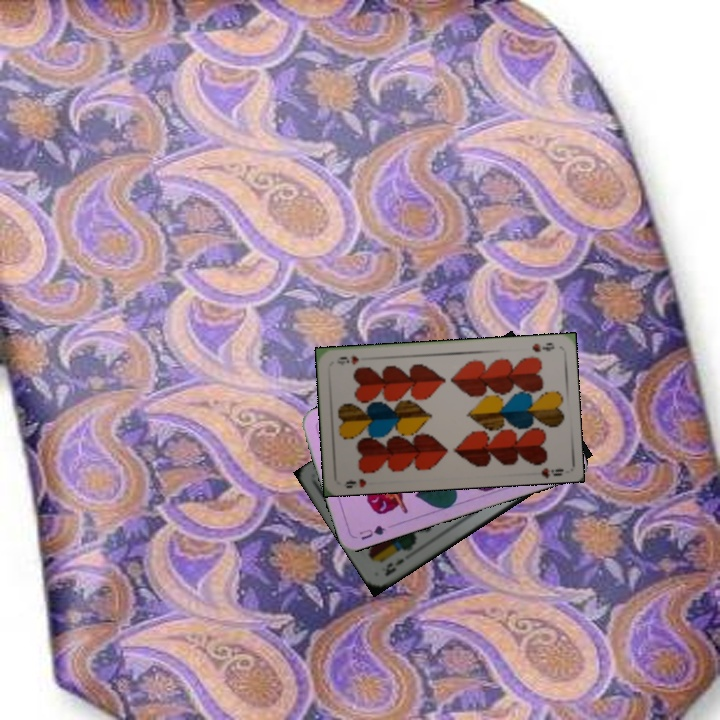EK: (381, 554, 407, 579)
GU: (355, 521, 389, 542)
H9: (528, 338, 557, 355), (341, 475, 369, 490)
